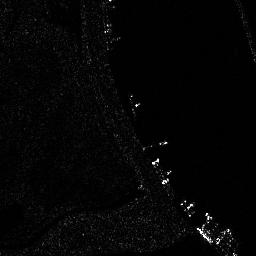ship: (141, 139, 168, 152)
